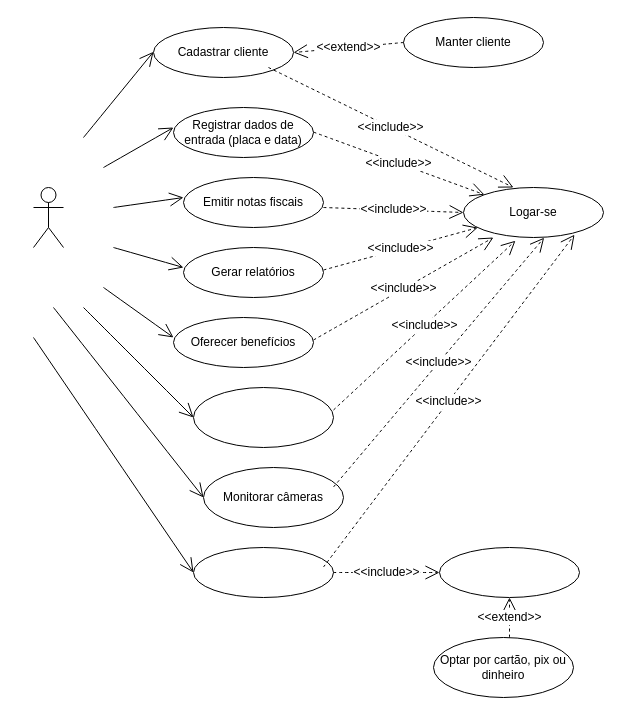
Image size: 621x715. Some labels were removed from this diagram. The centre of each missing label's shape, as x and y in pixels:
"Definir formas de pagamento" belongs at point (509, 572).
"Funcionário" belongs at point (48, 217).
"Gerenciar entrada/saída de veículos" belongs at point (263, 417).
"Gerenciar pagamento" belongs at point (263, 572).
